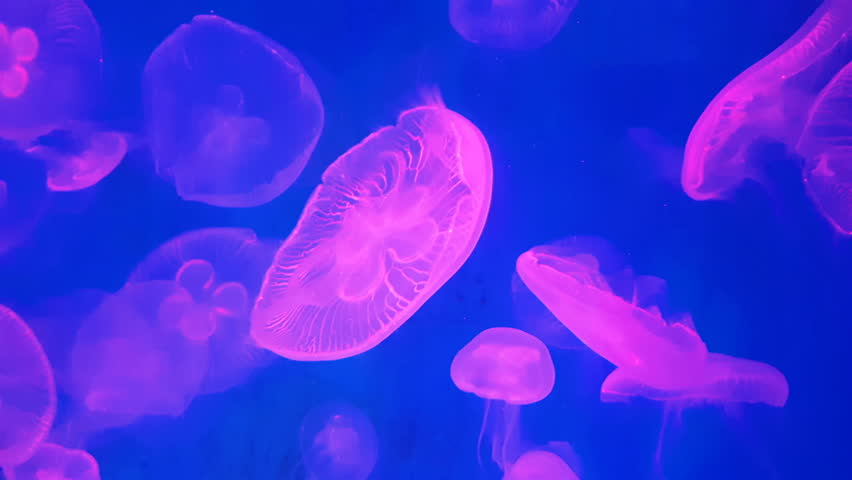jellyfish: (238, 95, 502, 373), (517, 235, 799, 419), (143, 18, 327, 214), (447, 325, 558, 469)
